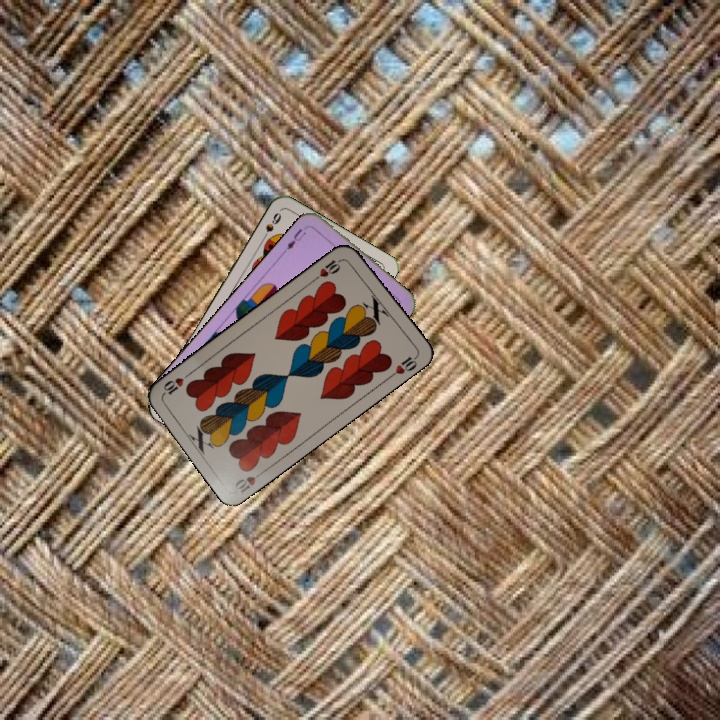EU: (283, 222, 310, 252)
H10: (229, 466, 268, 496), (310, 254, 346, 283)
S9: (257, 208, 284, 244)
